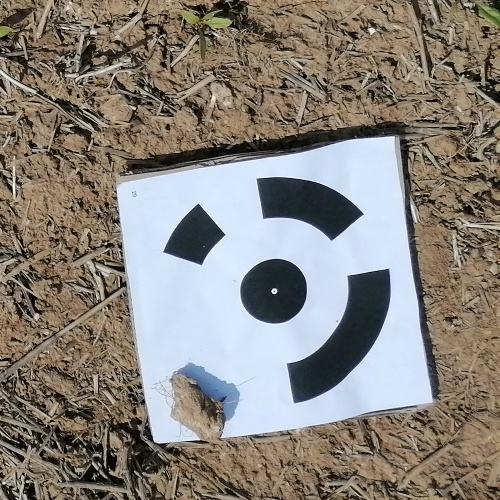beet: (180, 9, 231, 59), (471, 0, 500, 30), (0, 22, 18, 39)
